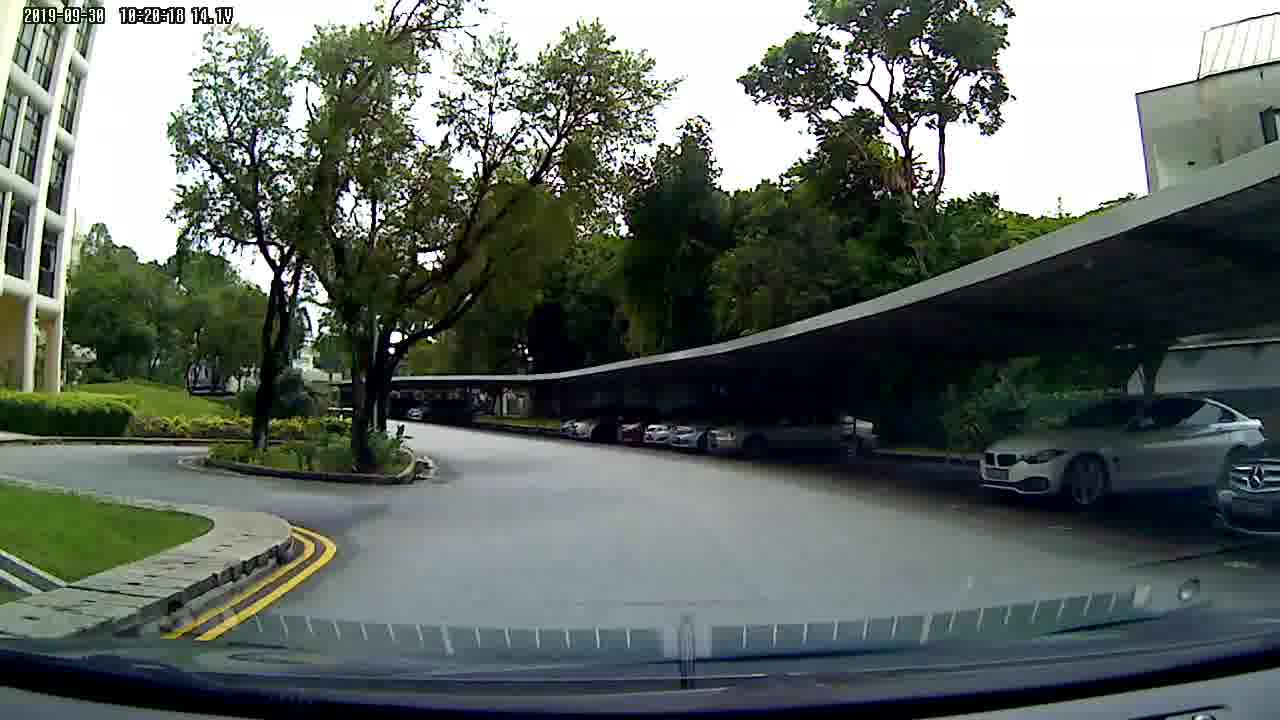car: (965, 390, 1218, 521), (553, 401, 881, 466)
